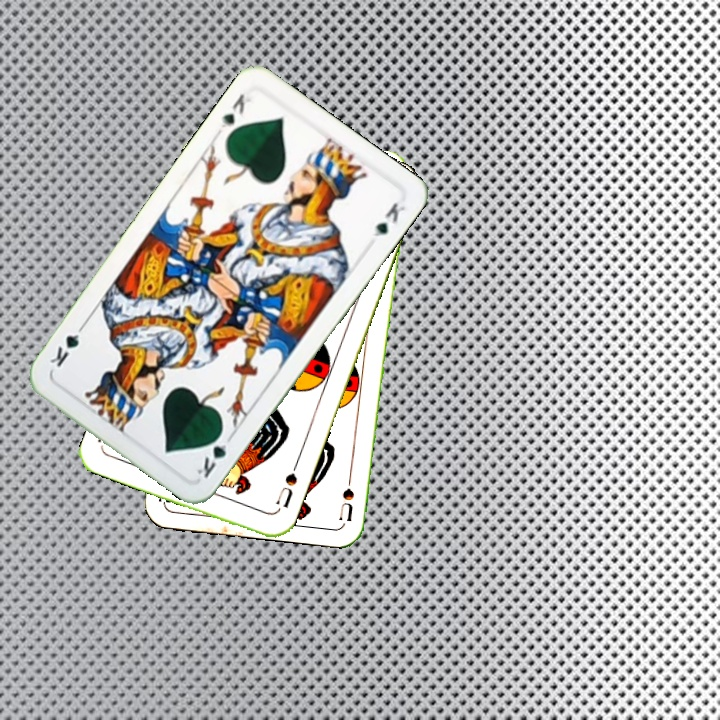GK: (192, 426, 230, 481), (216, 89, 254, 131)
SU: (272, 458, 301, 510), (336, 463, 357, 523)
